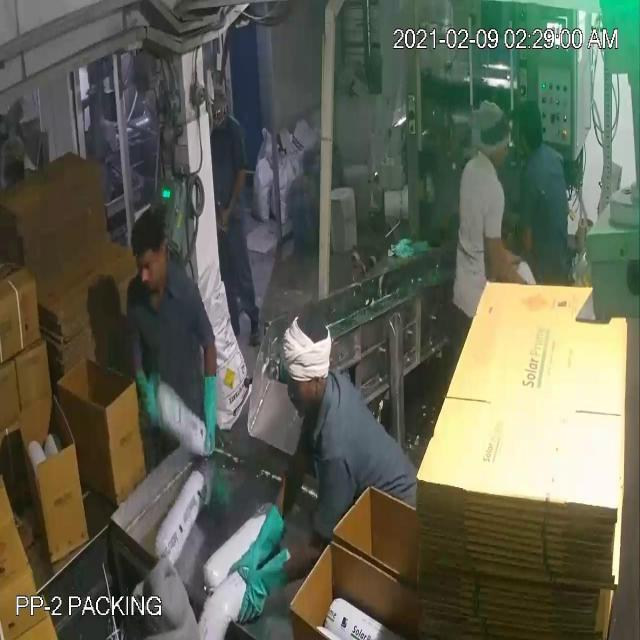Gloves: (24, 62, 507, 590)
